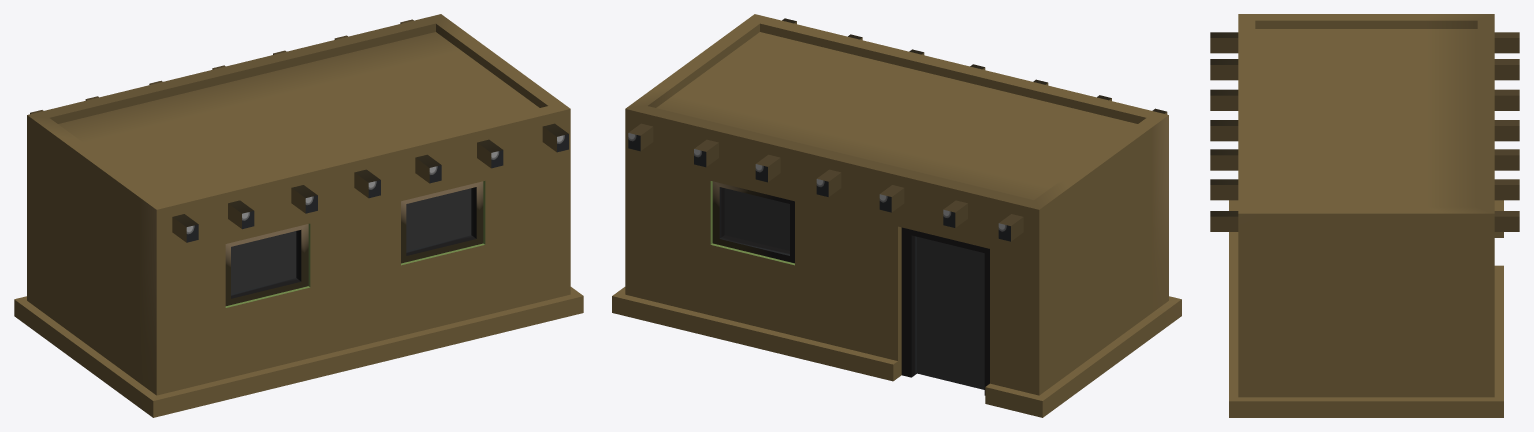
File: SM_Bld_Mud_Hut_01.gltf
The picture shows the model from 3 angles, left to right: view 1: azimuth 30°, elevation 25°; view 2: azimuth 150°, elevation 25°; view 3: azimuth 270°, elevation 25°; orthographic projection.
Parts seen in each view (by area): view 1: SM_Bld_Mud_Hut_01; view 2: SM_Bld_Mud_Hut_01; view 3: SM_Bld_Mud_Hut_01.
Boxes of the visible parts, left/top/right/bottom form: SM_Bld_Mud_Hut_01: left=14, top=14, right=583, bottom=417; SM_Bld_Mud_Hut_01: left=612, top=14, right=1181, bottom=417; SM_Bld_Mud_Hut_01: left=1210, top=14, right=1519, bottom=417.
Size of the model in its own units: 10.2 by 4.59 by 6.42.
Materials: 1 (1 with a texture image).
